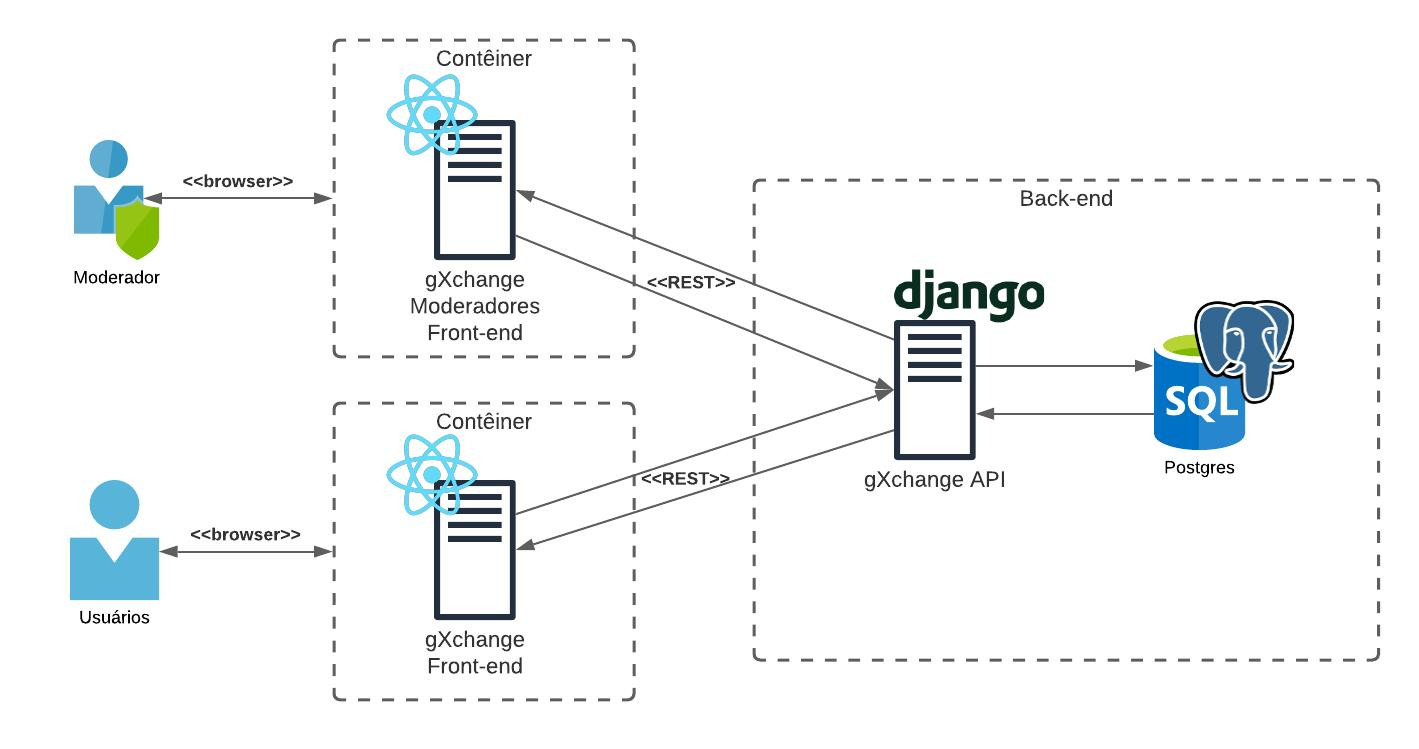Backend: (866, 261, 1056, 473)
Database: (1147, 292, 1304, 478)
User: (376, 427, 484, 523), (377, 64, 479, 160)
